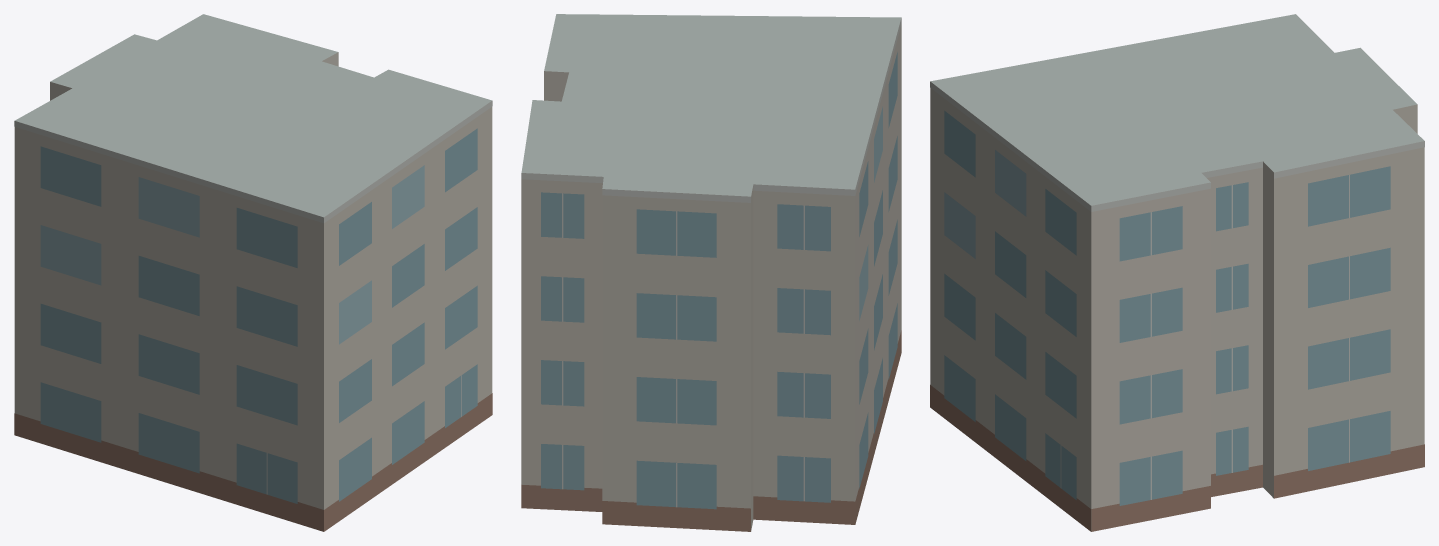
File: survey-upis-32915115.glb
3 views of the same model, side by side, from view 1: azimuth 30°, elevation 25°; view 2: azimuth 150°, elevation 25°; view 3: azimuth 270°, elevation 25° (orthographic). The views are drawn at different scales.
Parts seen in each view (by area): view 1: survey-upis-32915115.tmp; view 2: survey-upis-32915115.tmp; view 3: survey-upis-32915115.tmp.
Part boxes in pixels (x1,y1,x2,y2): survey-upis-32915115.tmp: [14, 14, 492, 531]; survey-upis-32915115.tmp: [521, 14, 901, 531]; survey-upis-32915115.tmp: [930, 14, 1424, 531].
Size of the model in its own units: 16.22 by 12.85 by 17.68.
